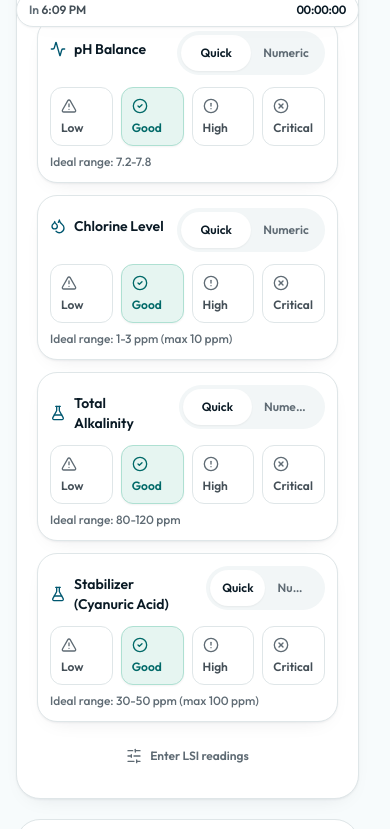
Reading sanity checks › lets the technician go back and fix the reading instead
(page scrolled)
Click the tab "Numeric" in the row of "Total Alkalinity". click: (286, 407)
box: [252,389,321,425]
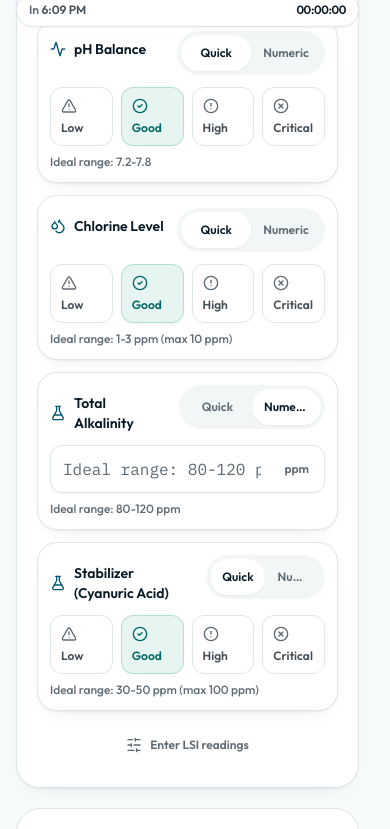
Type "200" into the number field with test id "alkalinity-numeric-input". click: (188, 469)
box: [50,445,325,493]
(page scrolled)
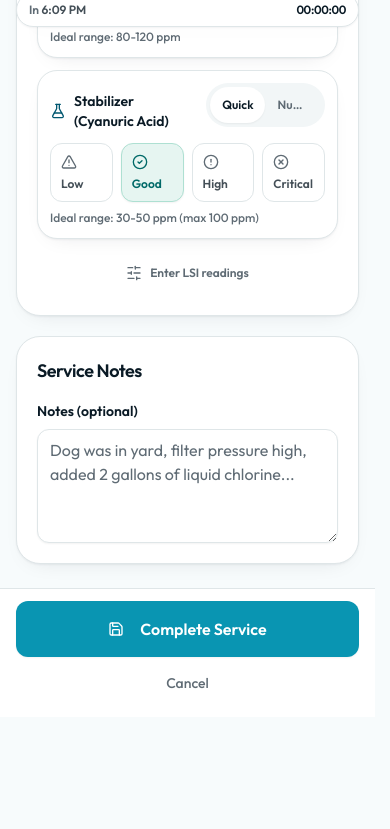
Click the button "Complete Service". click: (188, 629)
box: [16,601,359,657]
(page scrolled)
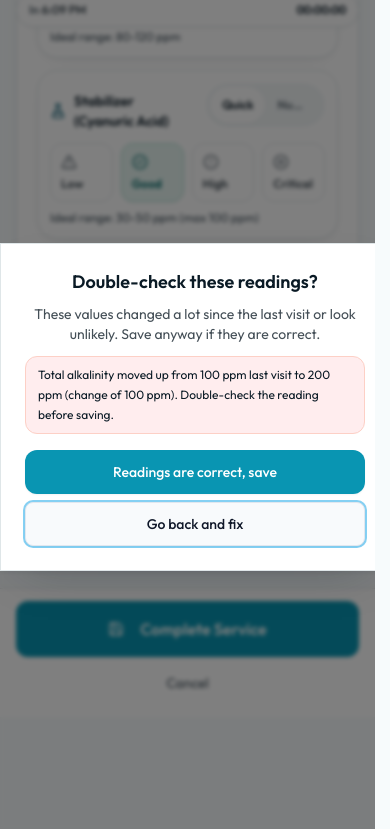
Click the button "Go back and fix". click: (195, 524)
box: [25,502,365,546]
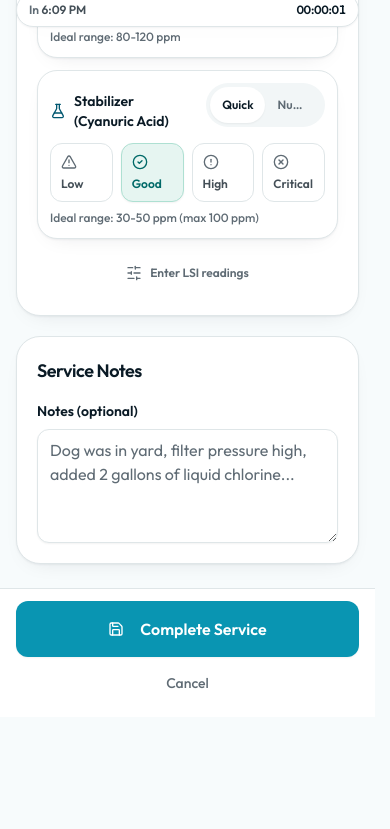
Expected: the dialog with test id "reading-sanity-prompt" is gone
